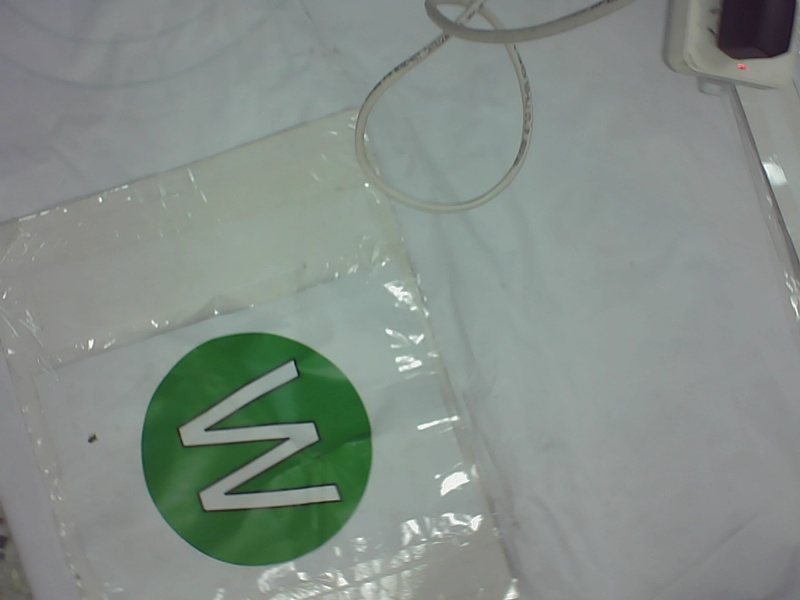areaB: (127, 330, 379, 573)
